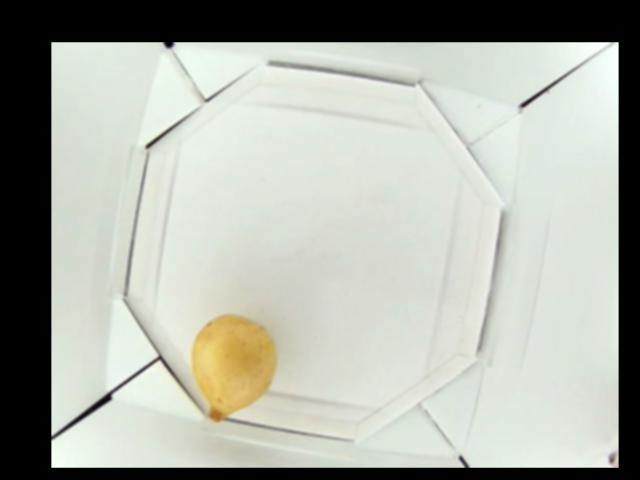Potato: (187, 312, 274, 422)
